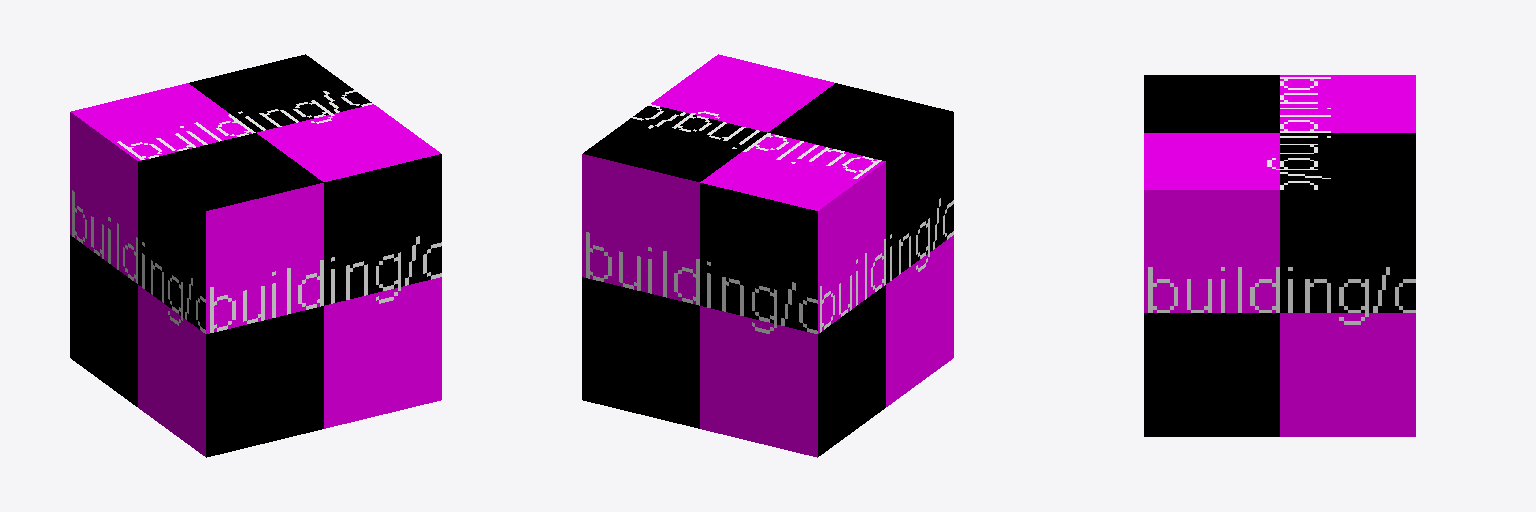
3 renders of one model, left to right at view 1: azimuth 30°, elevation 25°; view 2: azimuth 150°, elevation 25°; view 3: azimuth 270°, elevation 25°, orthographic.
Parts seen in each view (by area): view 1: dishcounter-bkp-chopped_cooked; view 2: dishcounter-bkp-chopped_cooked; view 3: dishcounter-bkp-chopped_cooked.
Part boxes in pixels (left/top/right/bottom): dishcounter-bkp-chopped_cooked: left=70, top=54, right=441, bottom=457; dishcounter-bkp-chopped_cooked: left=582, top=54, right=953, bottom=457; dishcounter-bkp-chopped_cooked: left=1144, top=75, right=1415, bottom=436.
Size of the model in its own units: 1 by 1 by 1.
1 materials, 1 textured.